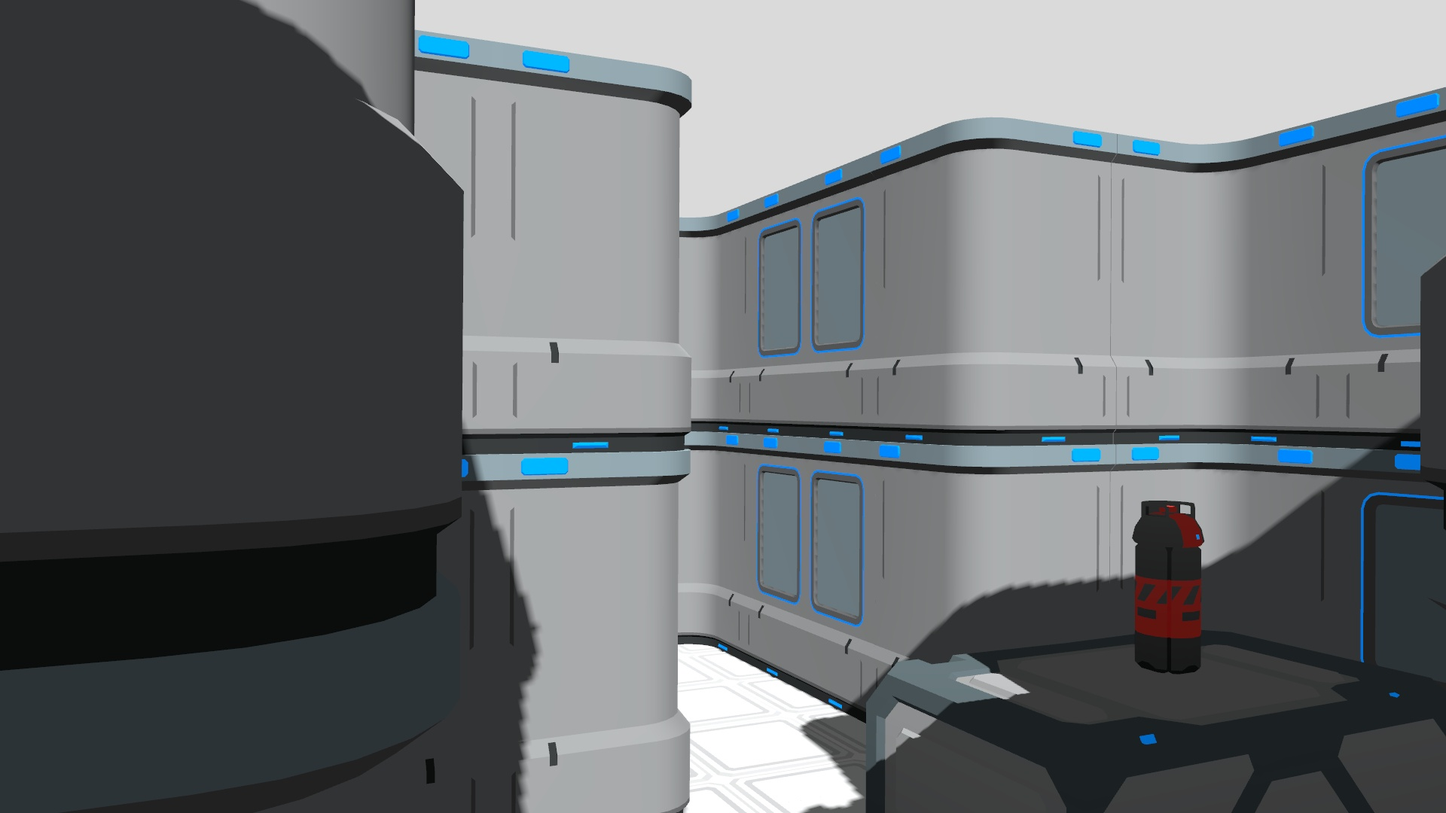red_barrel: (1127, 493, 1207, 678)
